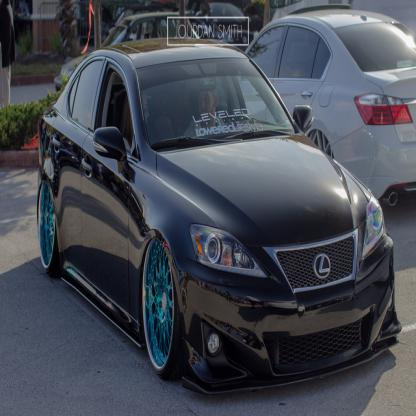Car: (36, 36, 403, 396), (243, 3, 415, 208), (53, 11, 249, 94)
